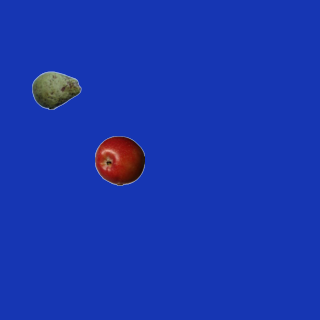Apple Braeburn: (94, 135, 144, 185)
Pear Stone: (31, 65, 81, 115)
